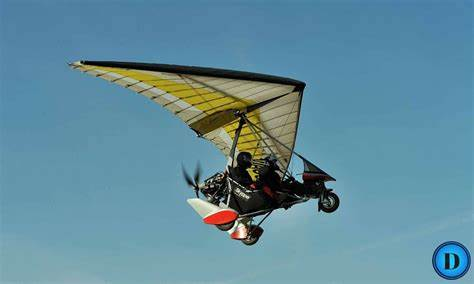Aeronef_de_loisir: (57, 50, 357, 251)
